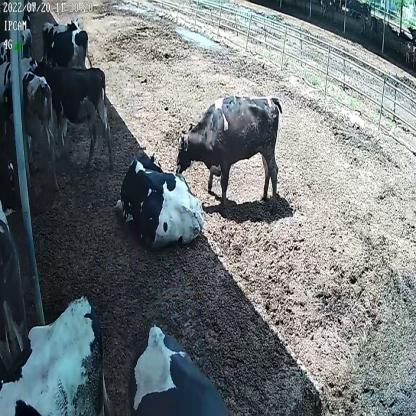cow: (171, 93, 283, 214), (112, 153, 206, 248), (33, 59, 113, 167), (42, 16, 82, 62), (44, 30, 93, 66)
